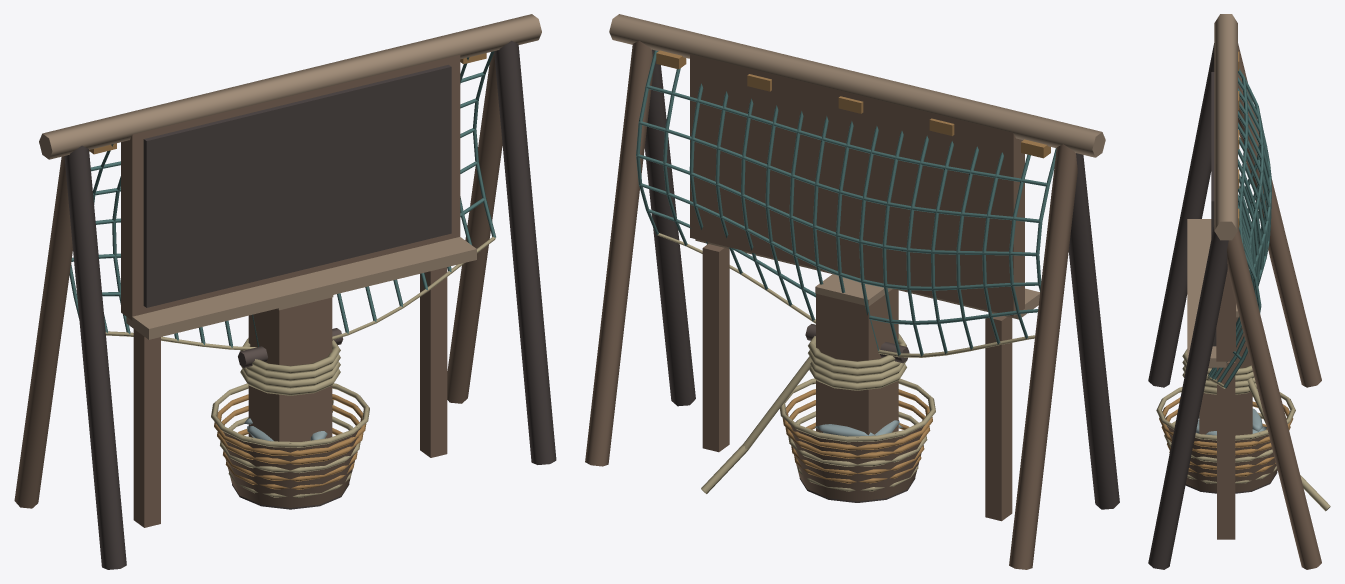
File: prop-harbour-kit-ch2-s1.glb
The picture shows the model from 3 angles, left to right: view 1: azimuth 30°, elevation 25°; view 2: azimuth 150°, elevation 25°; view 3: azimuth 270°, elevation 25°; orthographic projection. The views are drawn at different scales.
Parts seen in each view (by area): view 1: harbour-checkboard_lod0, harbour-net-rack_lod0, harbour-mooring_lod0, harbour-fish-basket_lod0; view 2: harbour-net-rack_lod0, harbour-checkboard_lod0, harbour-mooring_lod0, harbour-fish-basket_lod0; view 3: harbour-net-rack_lod0, harbour-checkboard_lod0, harbour-fish-basket_lod0, harbour-mooring_lod0.
Boxes of the visible parts, box(x1,y1,x2,y2) form: harbour-checkboard_lod0: box(121, 54, 476, 527); harbour-net-rack_lod0: box(14, 14, 556, 569); harbour-mooring_lod0: box(238, 295, 343, 441); harbour-fish-basket_lod0: box(211, 383, 369, 509); harbour-net-rack_lod0: box(585, 14, 1119, 569); harbour-checkboard_lod0: box(690, 54, 1039, 521); harbour-mooring_lod0: box(701, 274, 909, 493); harbour-fish-basket_lod0: box(780, 378, 935, 502); harbour-net-rack_lod0: box(1148, 14, 1321, 569); harbour-checkboard_lod0: box(1187, 72, 1235, 539); harbour-fish-basket_lod0: box(1156, 387, 1295, 493); harbour-mooring_lod0: box(1182, 304, 1330, 511).
Bounding box in the file's own units: 2.12 × 1.7 × 0.7875.
